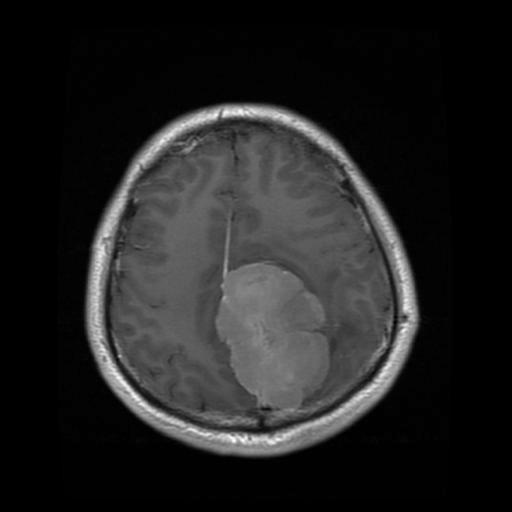Tumour-Pituitary: (187, 255, 347, 428)
